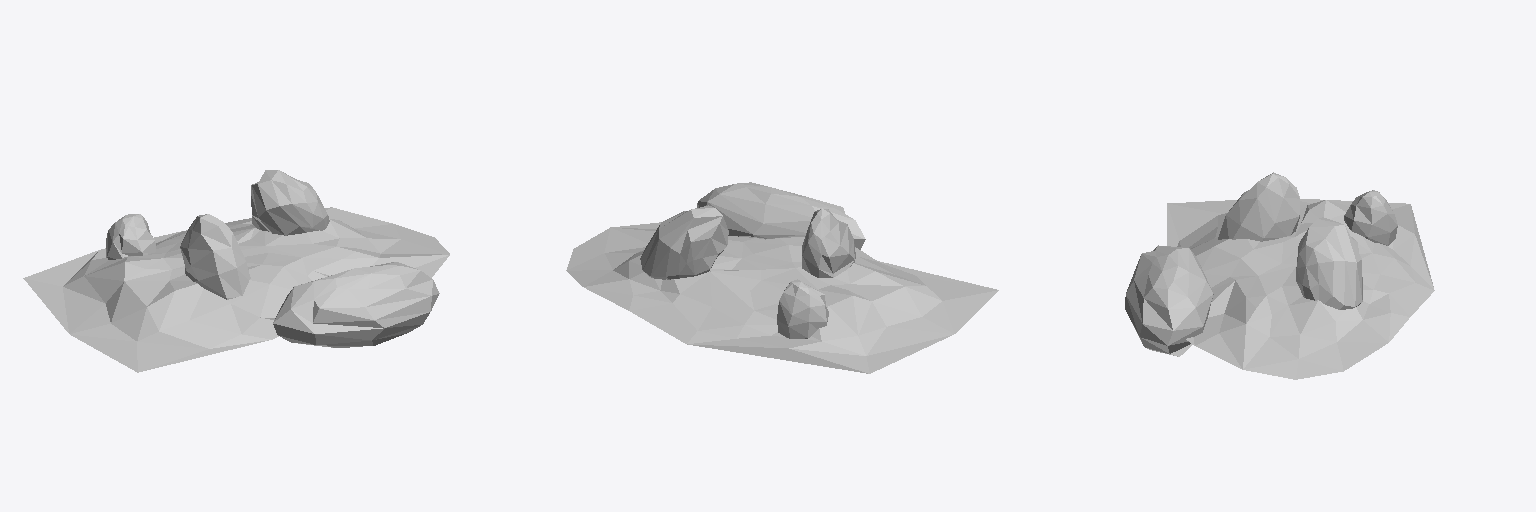
File: mountainEndLeft.obj
The picture shows the model from 3 angles: view 1: azimuth 30°, elevation 25°; view 2: azimuth 150°, elevation 25°; view 3: azimuth 270°, elevation 25°; orthographic projection.
Parts seen in each view (by area): view 1: Sphere.002; view 2: Sphere.002; view 3: Sphere.002.
Boxes of the visible parts, <box> form: Sphere.002: <box>23,170,449,372</box>; Sphere.002: <box>566,182,998,373</box>; Sphere.002: <box>1125,172,1434,379</box>.
Bounding box in the file's own units: 13.64 × 4.01 × 9.8.